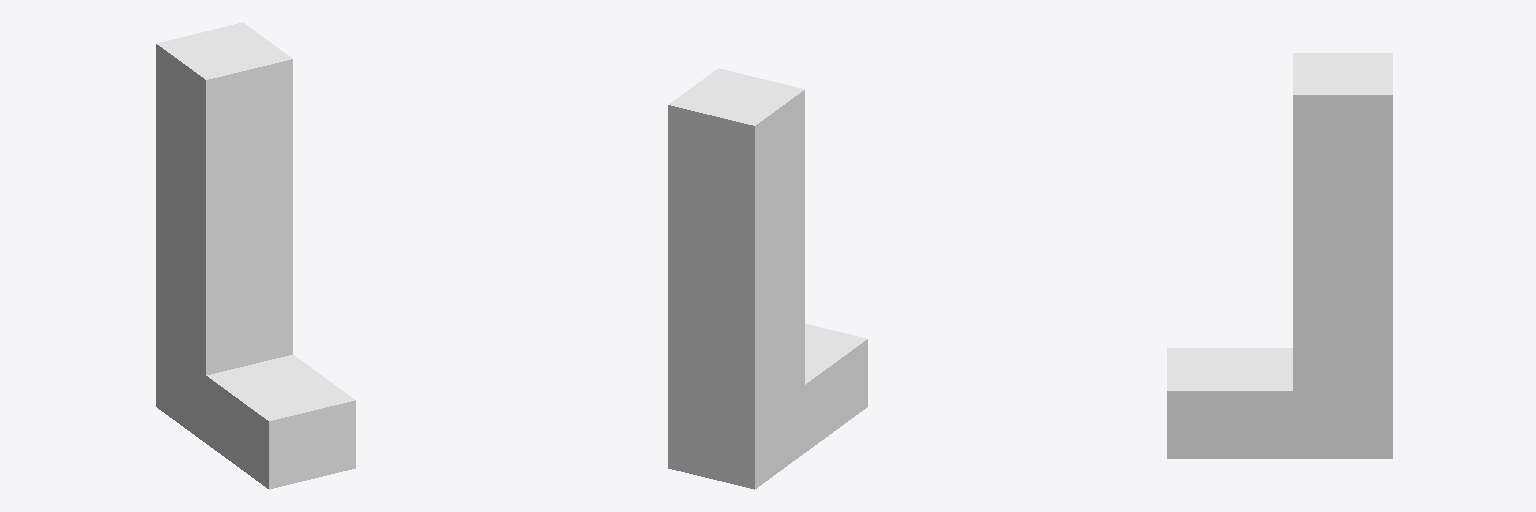
Rendered from thiefPierna.obj.
The picture shows the model from 3 angles: view 1: azimuth 30°, elevation 25°; view 2: azimuth 150°, elevation 25°; view 3: azimuth 270°, elevation 25°; orthographic projection.
Parts seen in each view (by area): view 1: object 1; view 2: object 1; view 3: object 1.
Part boxes in pixels (left/top/right/bottom): object 1: left=156, top=22, right=355, bottom=489; object 1: left=668, top=68, right=867, bottom=489; object 1: left=1167, top=53, right=1392, bottom=458.
Size of the model in its own units: 0.4 by 1.6 by 0.9.